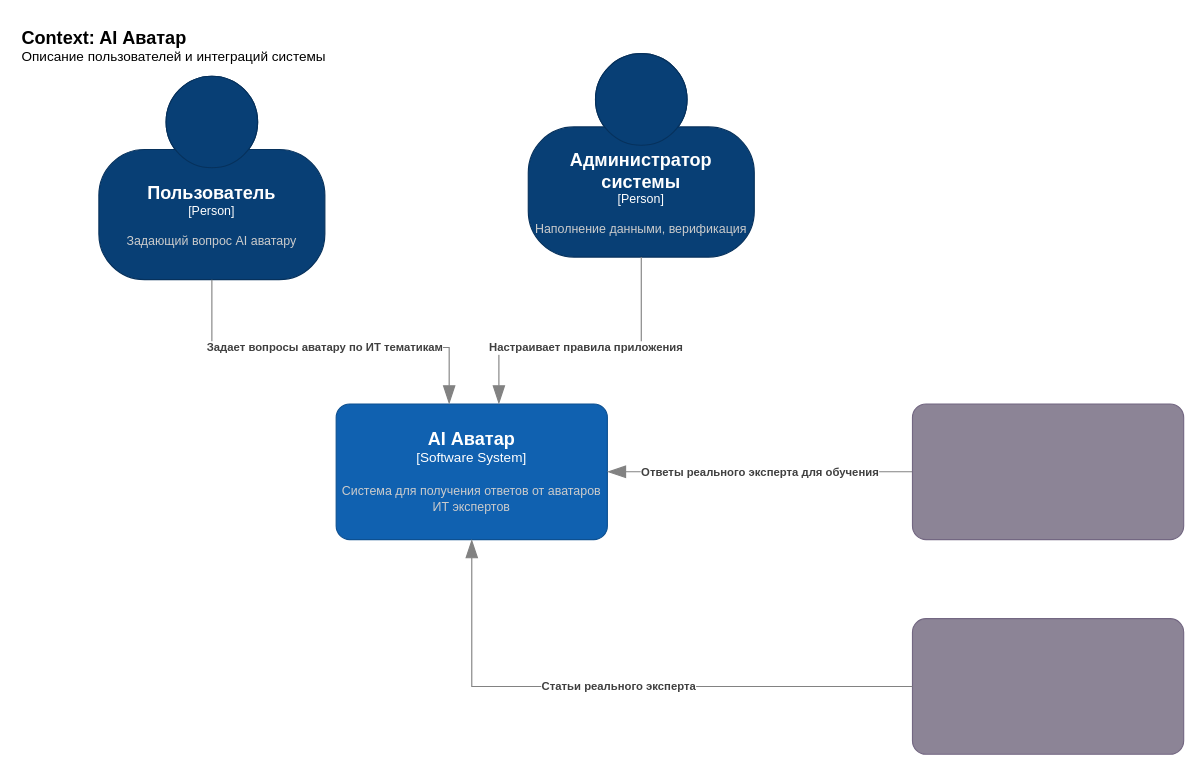
This 1203x774 diagram has some shape labels left out. The centre of each missing label's shape, as x and y in pixels:
"Базы знаний [Software System] например, confluence" belongs at pixel 1047 686.
"Трекер задач [Software System] Например, Jira, Яга" belongs at pixel 1047 471.
